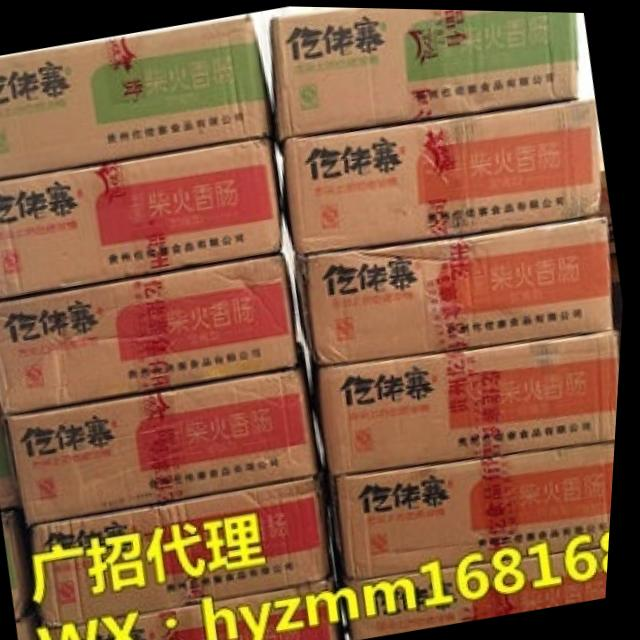box: (8, 339, 330, 525), (285, 94, 606, 254), (296, 211, 620, 364), (0, 251, 300, 415), (39, 471, 341, 628), (271, 6, 579, 157), (313, 325, 624, 472), (0, 140, 286, 299), (0, 14, 273, 178), (333, 438, 620, 580), (355, 541, 615, 640), (52, 573, 353, 640)
